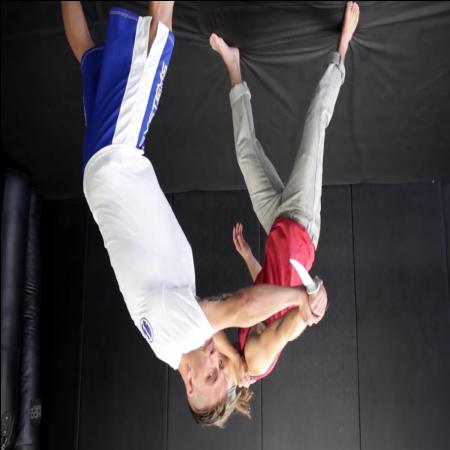long weapon: (286, 250, 330, 316)
